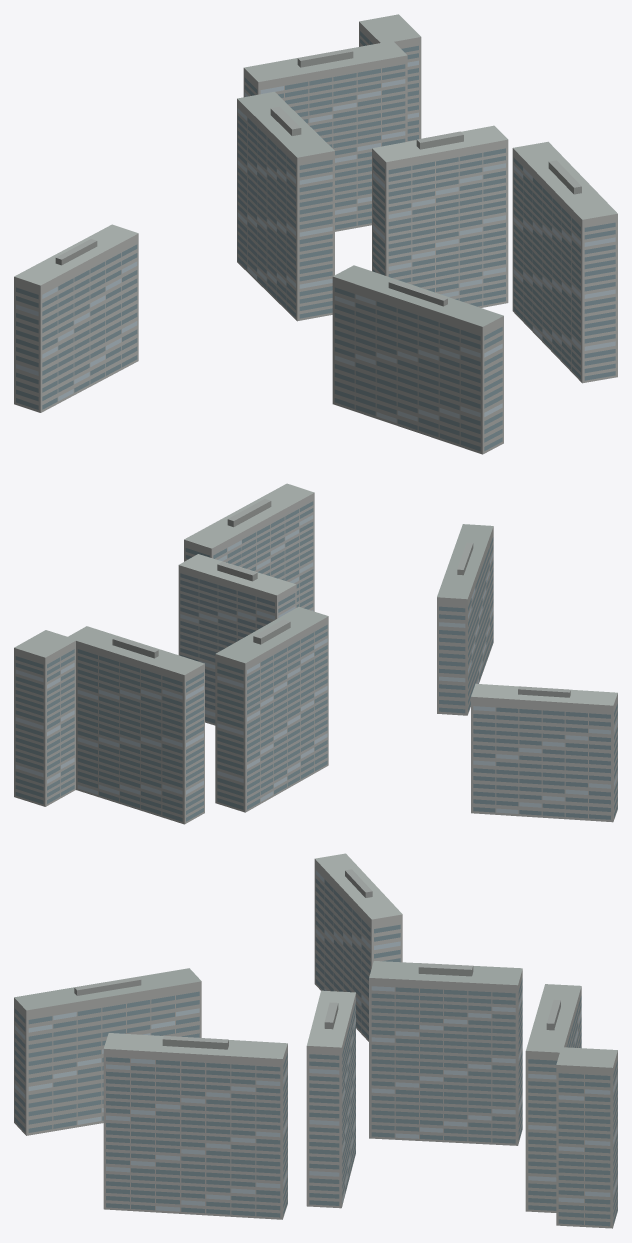
File: apt-a15807208.glb
3 views of the same model, one above another, from view 1: azimuth 30°, elevation 25°; view 2: azimuth 150°, elevation 25°; view 3: azimuth 270°, elevation 25° (orthographic). The views are drawn at different scales.
Parts seen in each view (by area): view 1: apt-a15807208; view 2: apt-a15807208; view 3: apt-a15807208.
Part boxes in pixels (left/top/right/bottom): apt-a15807208: left=14, top=14, right=617, bottom=454; apt-a15807208: left=14, top=483, right=617, bottom=824; apt-a15807208: left=14, top=853, right=617, bottom=1228.
Size of the model in its own units: 195 by 61 by 200.
